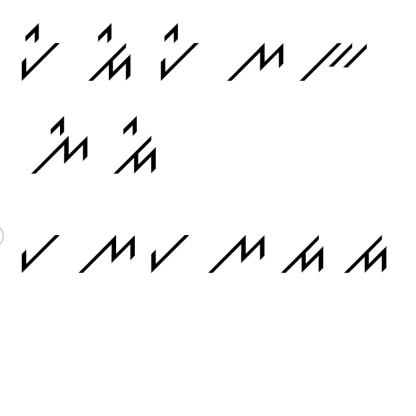da: (344, 227, 394, 283), (280, 230, 329, 286)
di: (110, 113, 165, 184), (84, 22, 136, 84)
na: (74, 228, 140, 284), (224, 35, 288, 89), (202, 230, 268, 280)
ni: (31, 111, 93, 183)
pa: (13, 228, 64, 276), (149, 228, 192, 282)
pi: (14, 18, 64, 82), (150, 21, 201, 82)
